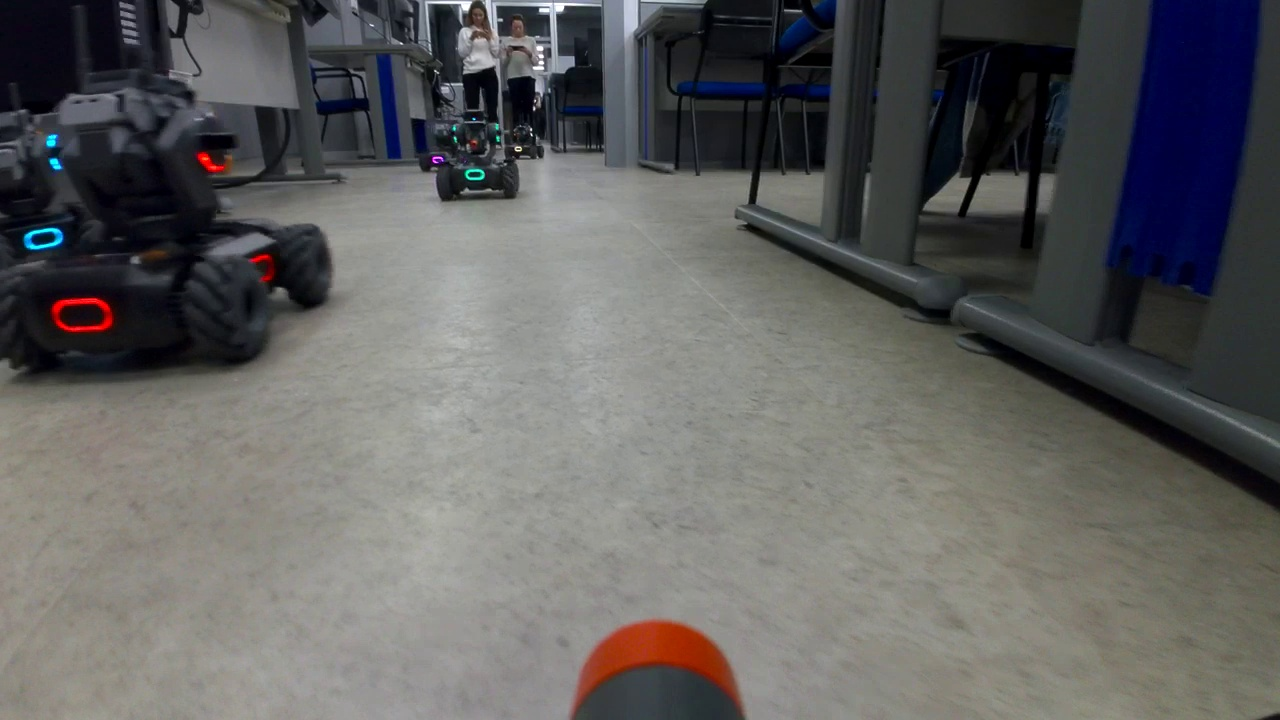robot: (4, 74, 332, 370), (433, 109, 521, 206), (417, 121, 454, 170), (506, 124, 545, 162)
